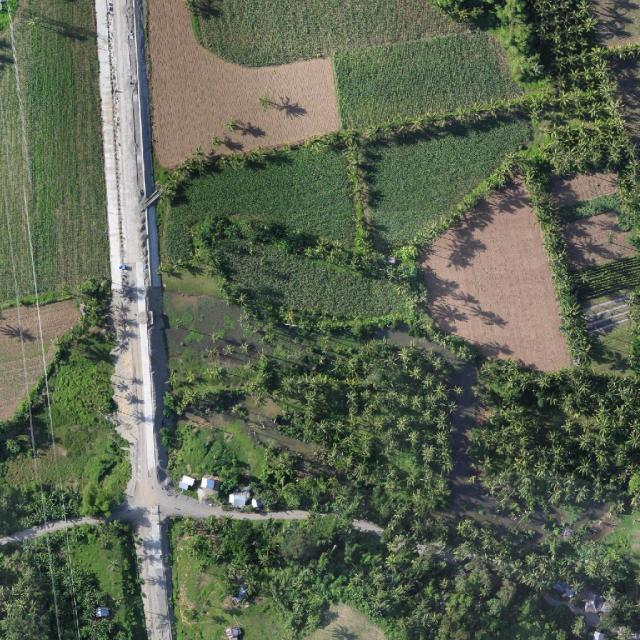agricultural_land: (407, 181, 572, 394), (355, 110, 550, 249), (358, 114, 547, 249), (155, 143, 356, 263), (329, 26, 521, 130), (209, 241, 409, 330), (0, 298, 80, 421), (571, 254, 640, 380), (559, 207, 637, 271), (548, 164, 621, 209)
greenland: (155, 324, 463, 527), (0, 318, 138, 535)
